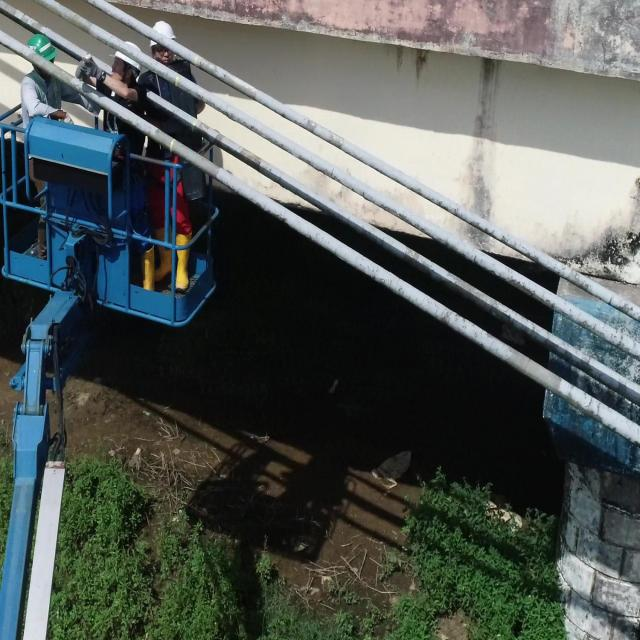crack: (584, 397, 593, 407), (596, 402, 601, 413), (609, 296, 612, 304), (331, 169, 334, 176), (382, 237, 384, 244), (474, 254, 476, 260), (263, 205, 265, 210), (363, 190, 364, 197)
